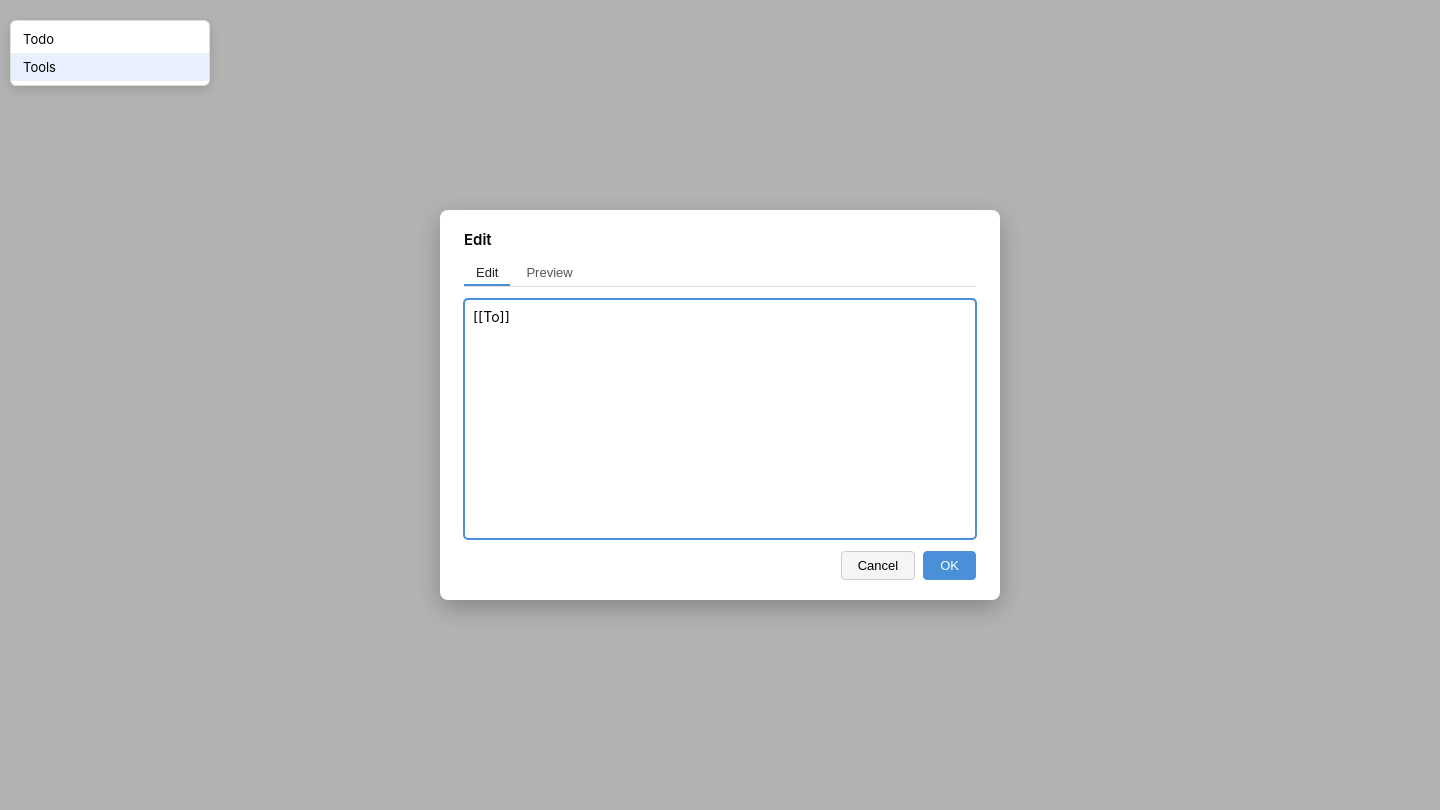
Test: the page names offered for a link, alone › the names show where they are given, the selected one marked, and a click puts one in the link
Step 1. Press the mouse on the text "Todo" → (38, 39), box [23, 31, 54, 47]
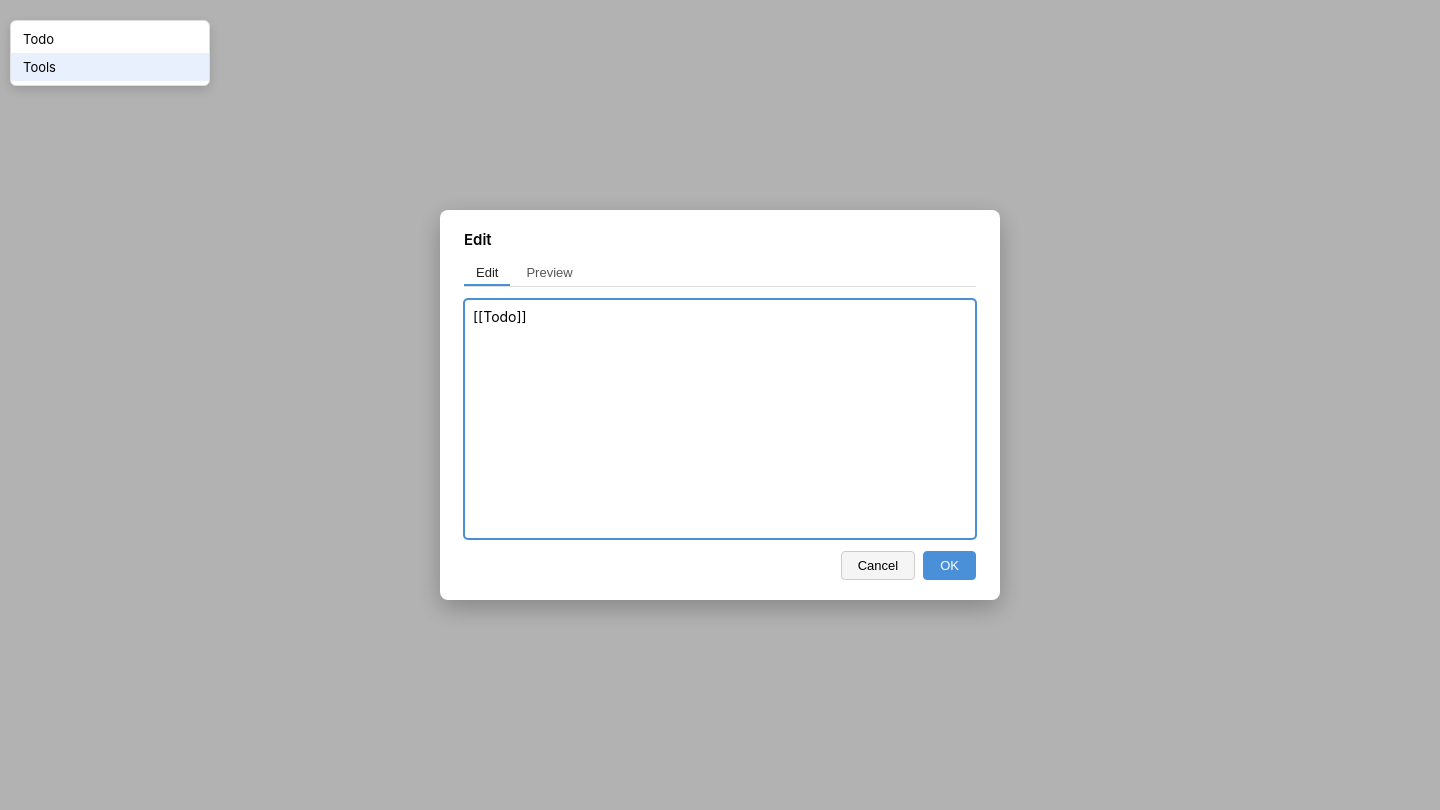
Expected: the dialog is shown, [440, 210, 1000, 600]
Expected: the text box holds "[ [Todo]]", [464, 299, 976, 539]
